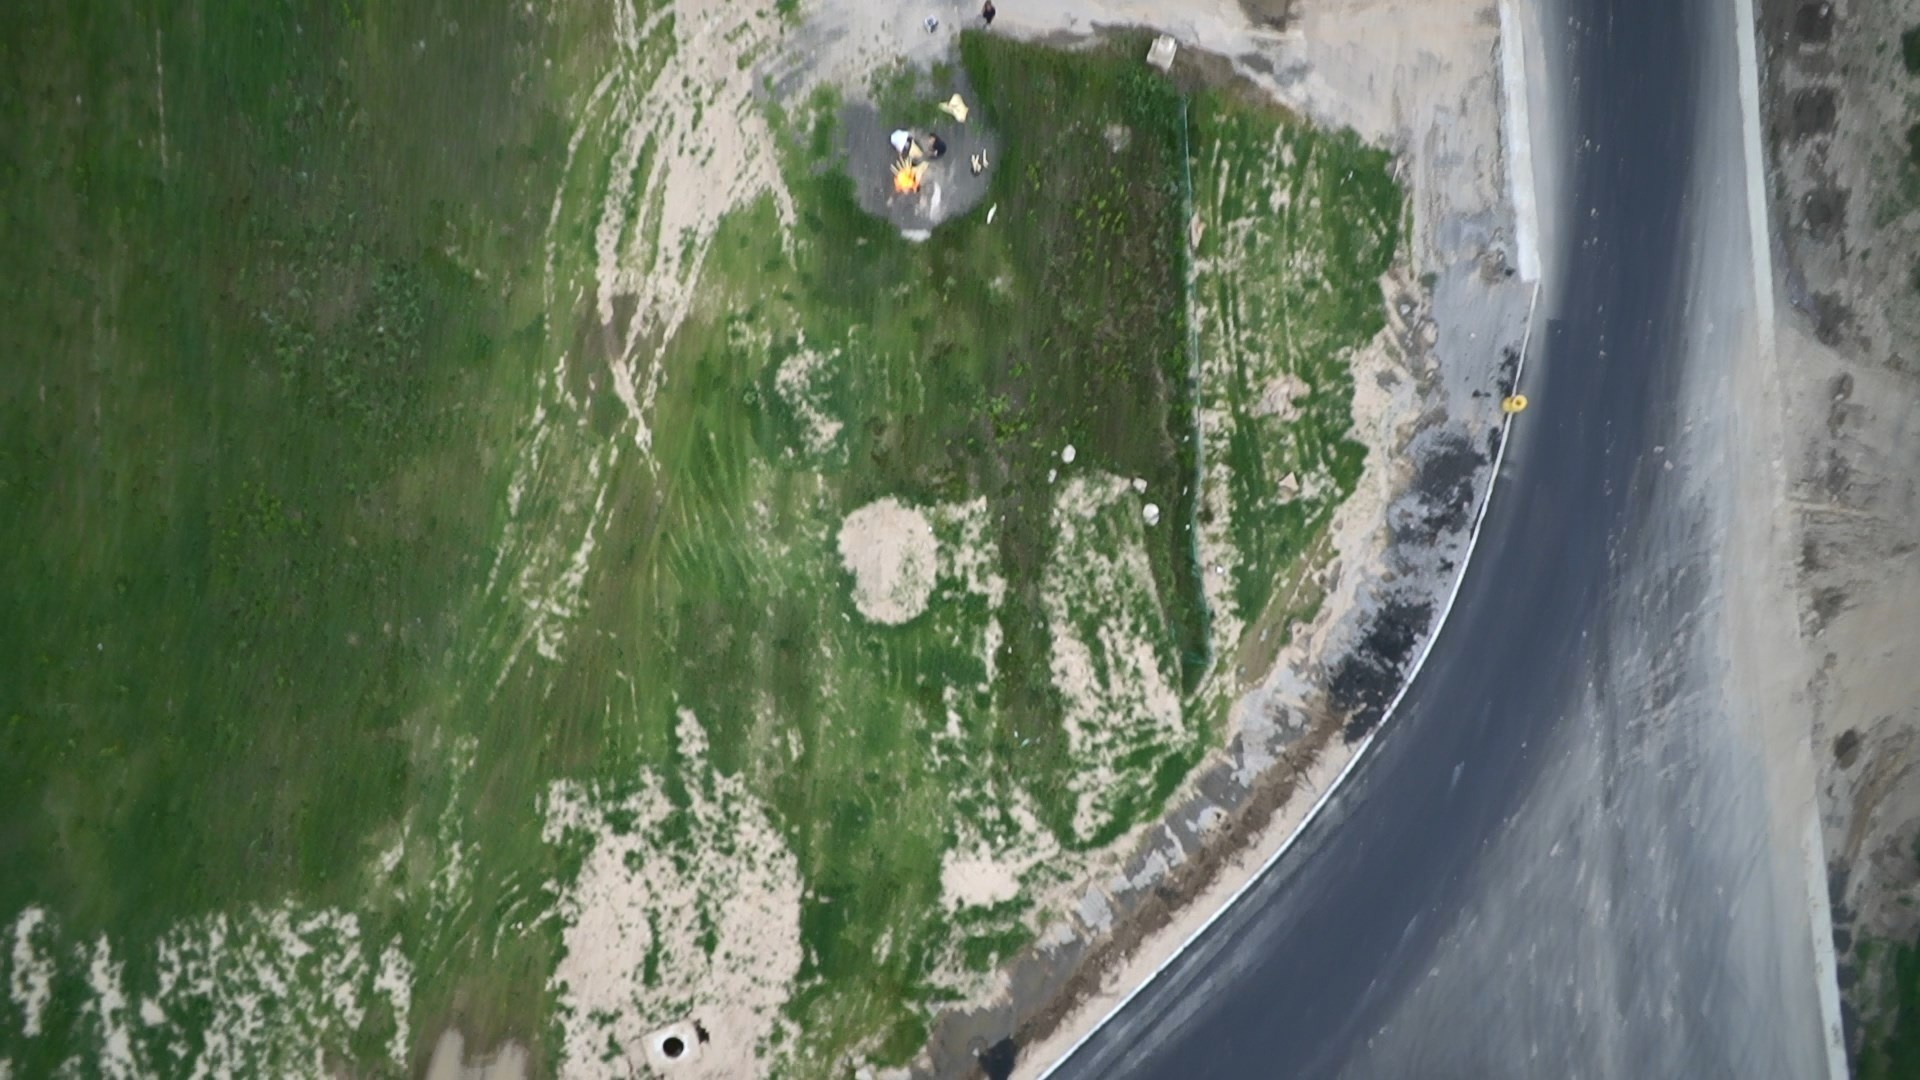fire: (889, 135, 934, 198)
